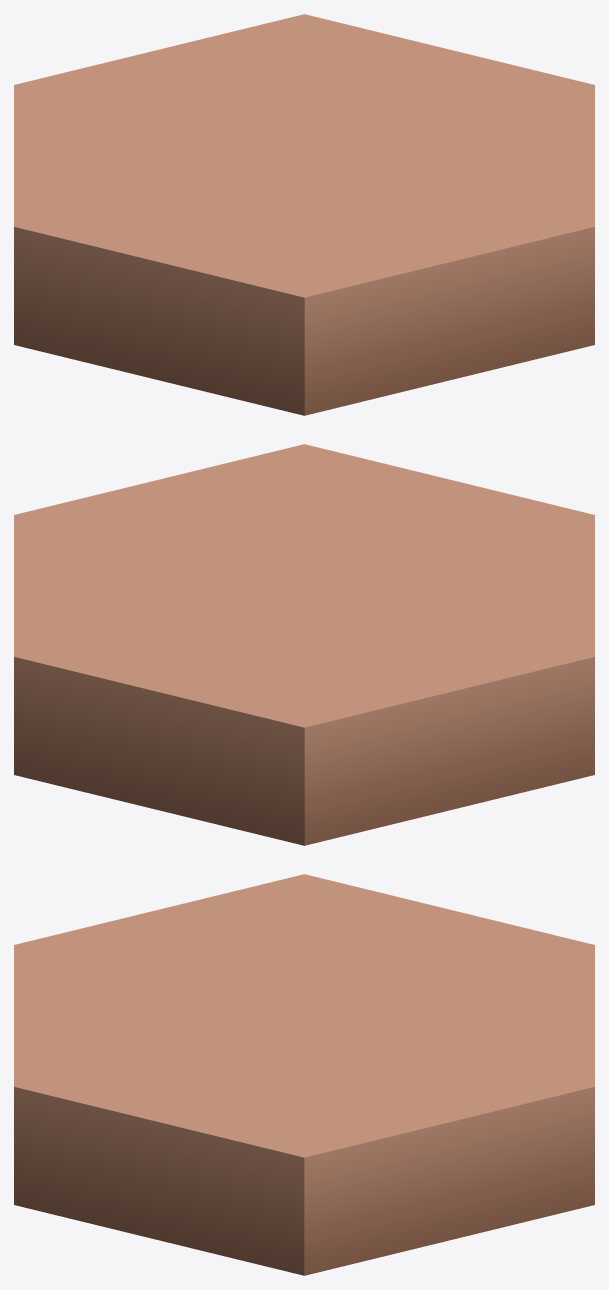
The model's file is Hexagon.fbx.
3 views of the same model, one above another, from view 1: azimuth 30°, elevation 25°; view 2: azimuth 150°, elevation 25°; view 3: azimuth 270°, elevation 25° (orthographic).
Visible parts, largest first — view 1: lowpoly_spot_brown; view 2: lowpoly_spot_brown; view 3: lowpoly_spot_brown.
Boxes of the visible parts, left/top/right/bottom form: lowpoly_spot_brown: left=14, top=14, right=594, bottom=415; lowpoly_spot_brown: left=14, top=444, right=594, bottom=845; lowpoly_spot_brown: left=14, top=874, right=594, bottom=1275.
Bounding box in the file's own units: 366 × 71.12 × 317.
Materials: 1 (1 with a texture image).
